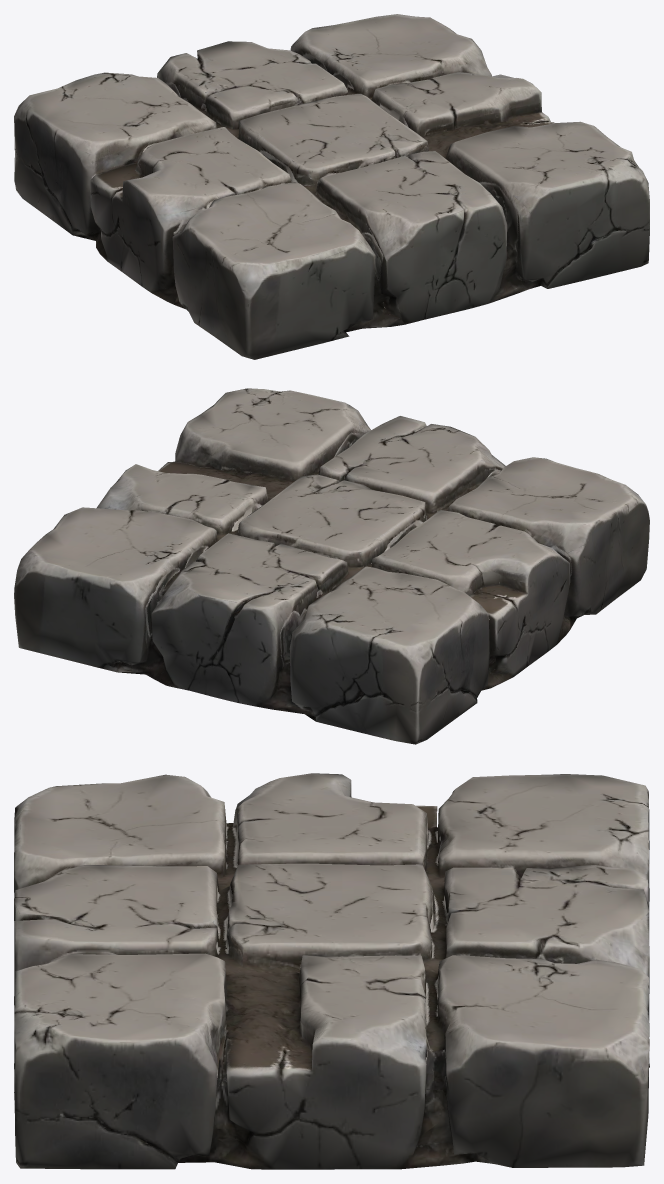
Rendered from env_cobble.glb.
3 renders of one model, top to bottom at view 1: azimuth 30°, elevation 25°; view 2: azimuth 150°, elevation 25°; view 3: azimuth 270°, elevation 25°, orthographic. The views are drawn at different scales.
Size of the model in its own units: 1.92 by 0.4452 by 1.92.
Materials: 1 (1 with a texture image).
